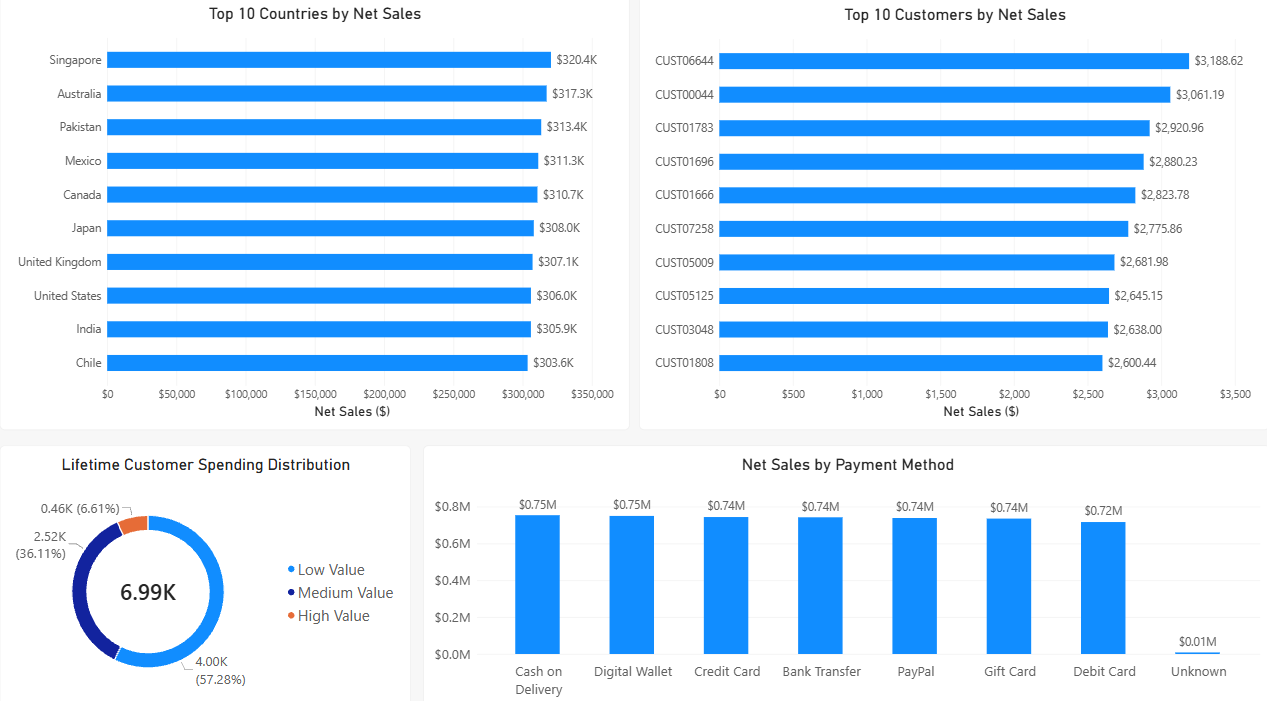

The page's visual inventory and layout, read from the dashboard file:
{"tool":"powerbi","page":{"name":"Regional & Customer Insights","canvas":[1920,1080],"ordinal":2},"visuals":[{"type":"clusteredBarChart","title":"Top 10 Countries by Net Sales","fields":{"Category":["ecommerce_sales_customer_cleaned.Country"],"Y":["Sum(ecommerce_sales_customer_cleaned.NetSales)"]},"box":[4.1,2.1,948.1,656.2],"z":0},{"type":"barChart","title":"Top 10 Customers by Net Sales","fields":{"Y":["Sum(ecommerce_sales_customer_cleaned.NetSales)"],"Category":["ecommerce_sales_customer_cleaned.CustomerID"]},"box":[966.8,4.1,950.2,654.2],"z":1000},{"type":"donutChart","title":"Lifetime Customer Spending Distribution","fields":{"Category":["Customer Summary.Customer Segment"],"Y":["CountNonNull(Customer Summary.CustomerID)"]},"box":[4.1,681.1,619,399.5],"z":2000},{"type":"clusteredColumnChart","title":"Net Sales by Payment Method","fields":{"Category":["ecommerce_sales_customer_cleaned.PaymentMethod"],"Y":["_Measures.Net Sales"]},"box":[641.8,681.1,1277.3,399.5],"z":3000}]}

Visuals, with their boxes in screenshot pixels (x1, y1, x2, y2), scaled from the page's 1920x1080 canvas onto the 1267x701 screenshot:
"Top 10 Countries by Net Sales" clusteredBarChart: {"left": 3, "top": 1, "right": 628, "bottom": 427}
"Top 10 Customers by Net Sales" barChart: {"left": 638, "top": 3, "right": 1265, "bottom": 427}
"Lifetime Customer Spending Distribution" donutChart: {"left": 3, "top": 442, "right": 411, "bottom": 700}
"Net Sales by Payment Method" clusteredColumnChart: {"left": 424, "top": 442, "right": 1266, "bottom": 700}
